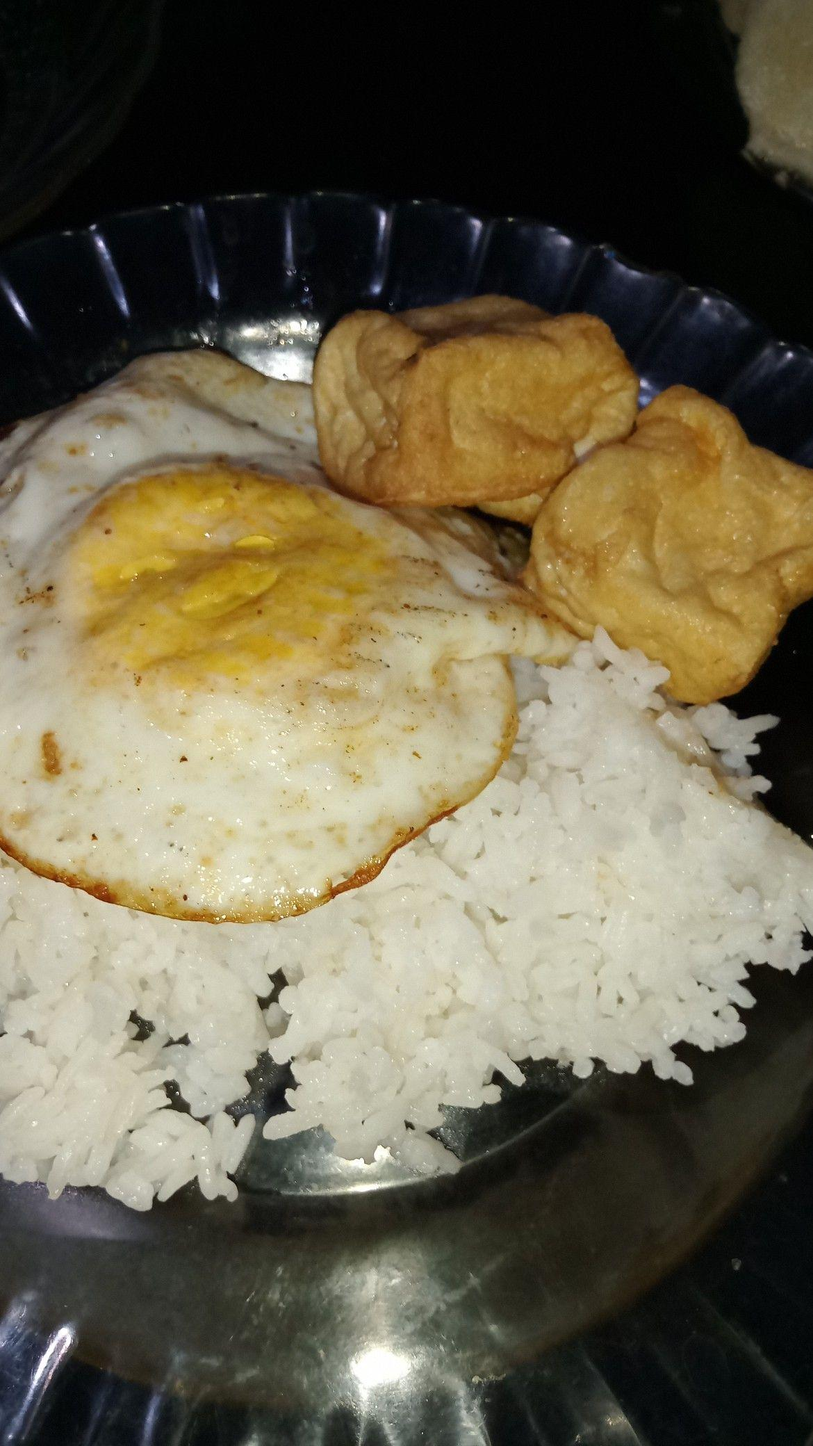kacang_legume: (625, 415, 762, 654), (379, 314, 569, 479)
makanan_berpati: (499, 774, 706, 1036)
telur: (28, 418, 299, 866)
